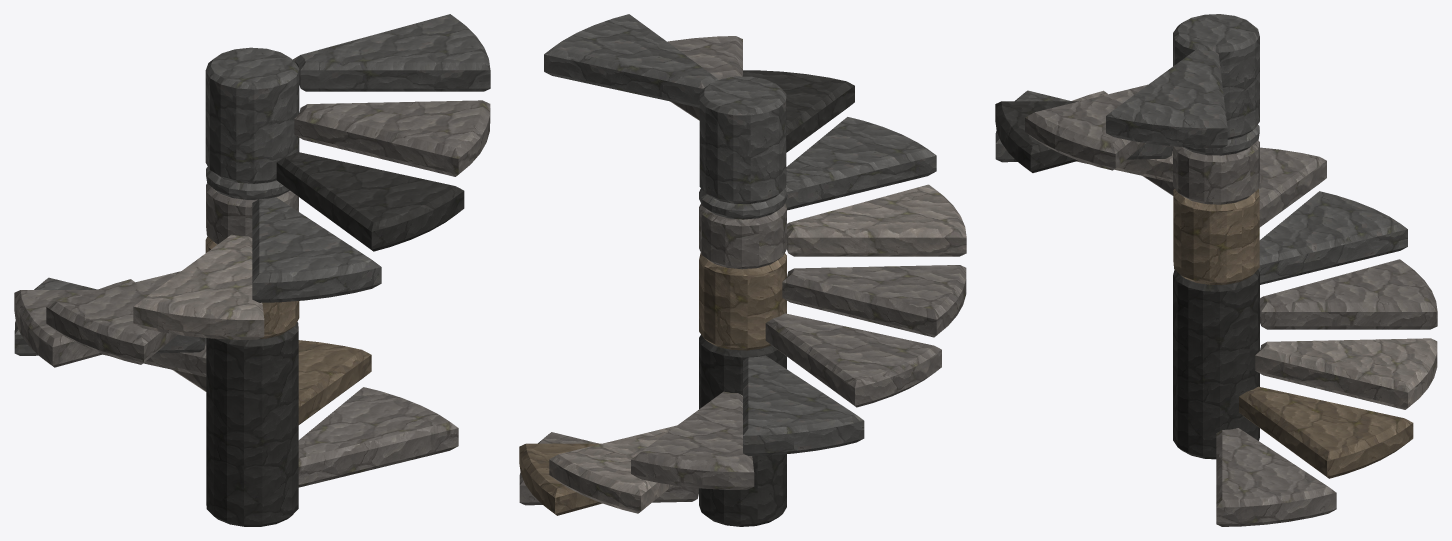
Rendered from stairs_spiral__cut_stone.glb.
3 views of the same model, side by side, from view 1: azimuth 30°, elevation 25°; view 2: azimuth 150°, elevation 25°; view 3: azimuth 270°, elevation 25° (orthographic). The views are drawn at different scales.
Visible parts, largest first — view 1: model; view 2: model; view 3: model.
Boxes of the visible parts, bbox=[...] form: model: bbox=[14, 14, 490, 526]; model: bbox=[519, 14, 966, 526]; model: bbox=[995, 14, 1437, 526].
Bounding box in the file's own units: 1.93 × 1.99 × 1.93.
6 materials, 6 textured.
